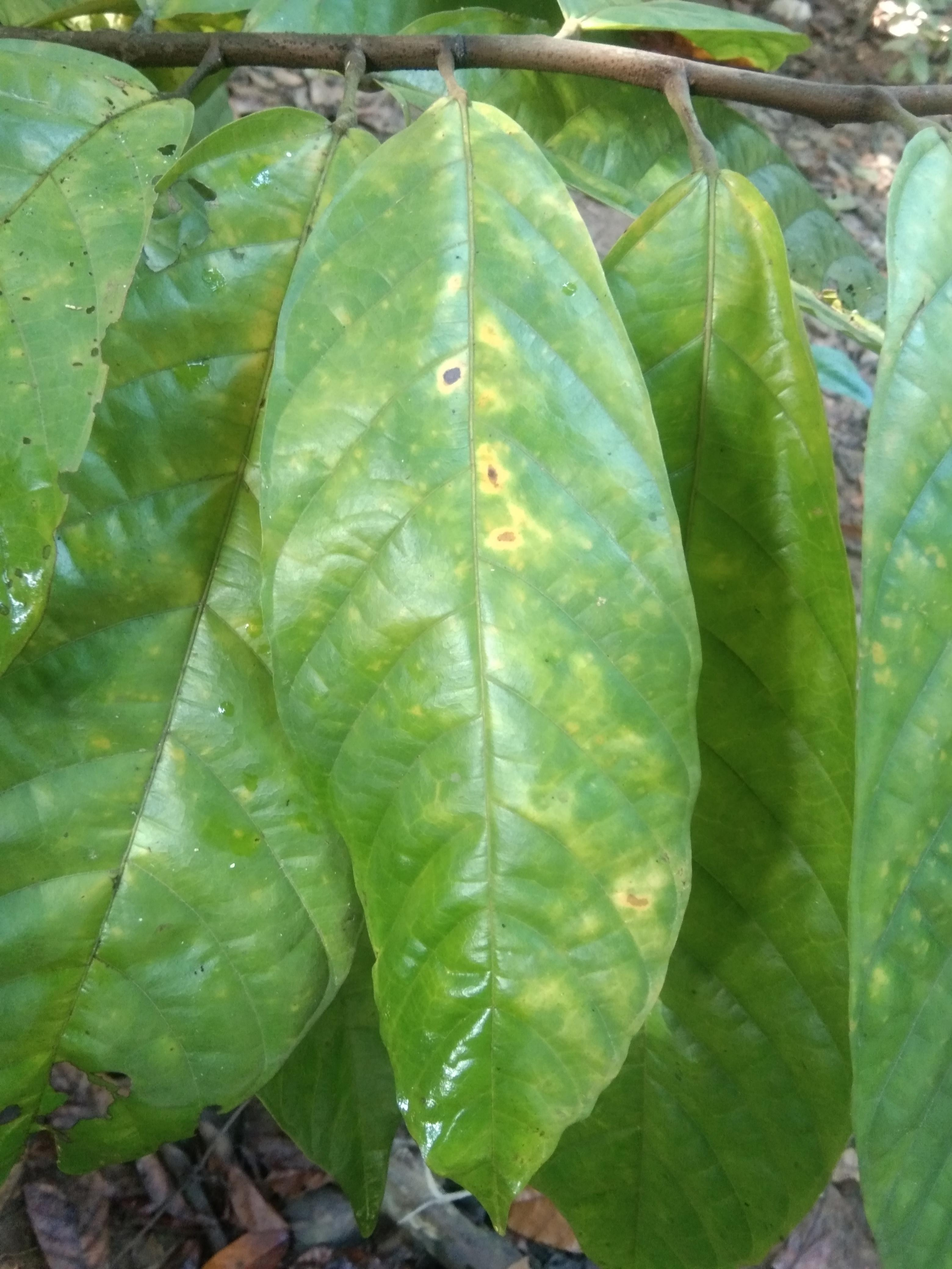deficiencia_potasio: (250, 90, 705, 1231)
